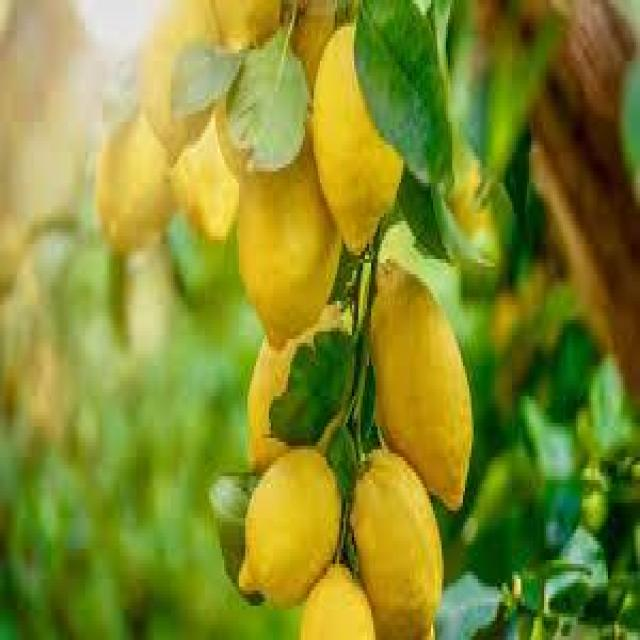fruit: (368, 260, 473, 511), (312, 20, 407, 252), (235, 143, 342, 347), (350, 448, 442, 638), (231, 453, 339, 611), (249, 304, 349, 471), (140, 0, 228, 166), (94, 112, 174, 255), (174, 110, 242, 243), (300, 565, 380, 640), (290, 3, 346, 93), (206, 1, 284, 56), (234, 542, 268, 600), (251, 430, 290, 473)
